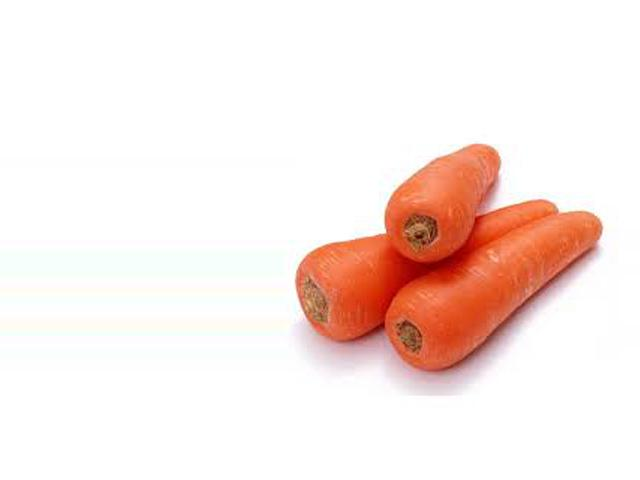carrot: (298, 201, 563, 349)
